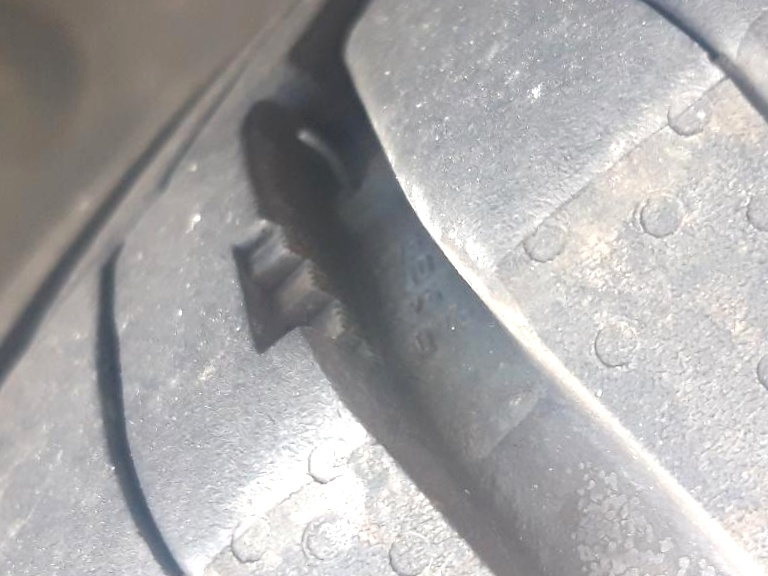temoin:90: (217, 182, 413, 388)
